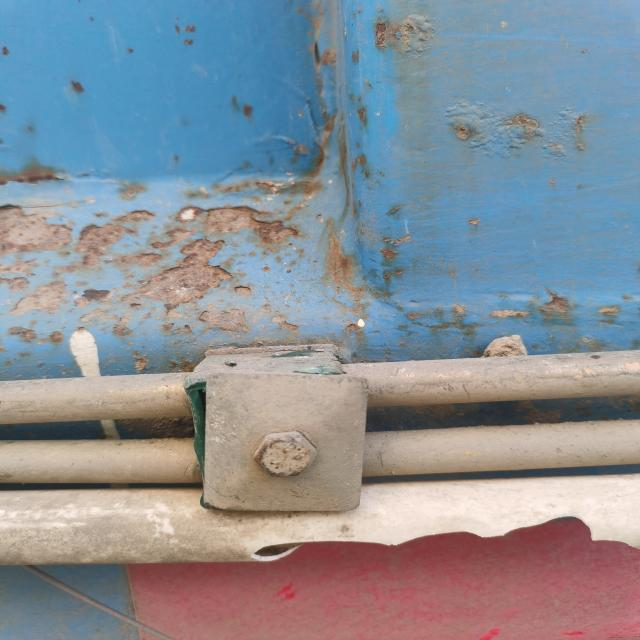bolt head: (250, 427, 320, 479)
